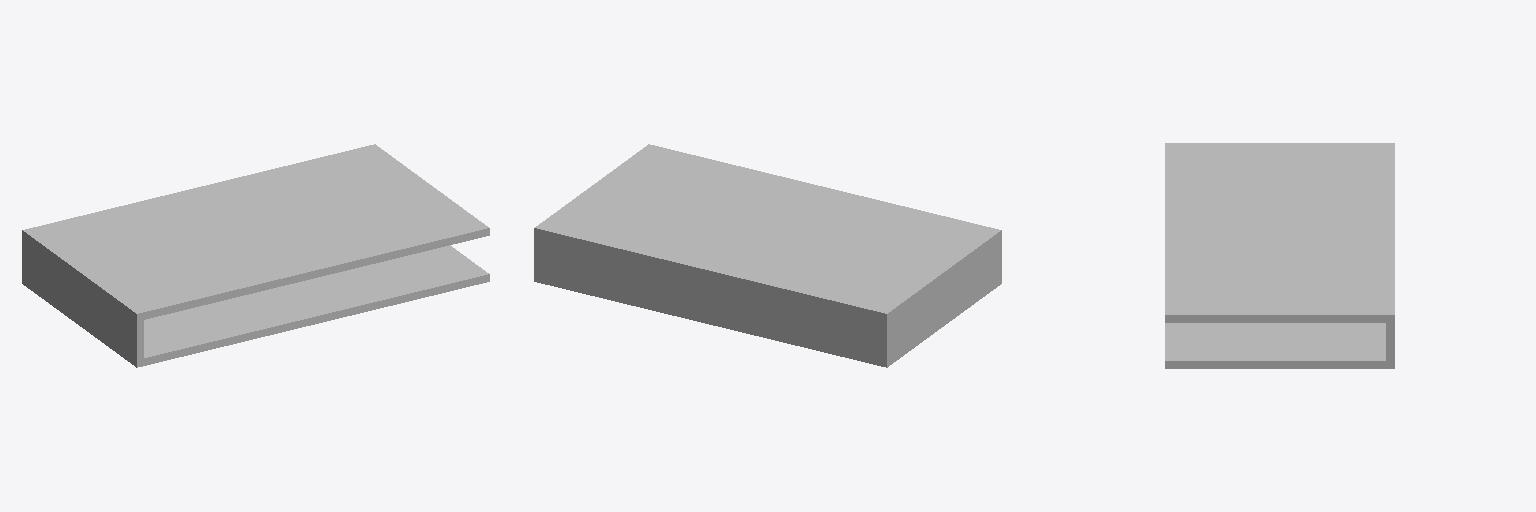
The model's file is home.obj.
3 views of the same model, side by side, from view 1: azimuth 30°, elevation 25°; view 2: azimuth 150°, elevation 25°; view 3: azimuth 270°, elevation 25° (orthographic).
Parts seen in each view (by area): view 1: Entity1(worldspawn); view 2: Entity1(worldspawn); view 3: Entity1(worldspawn).
Boxes of the visible parts, x1=… form: Entity1(worldspawn): x1=22, y1=144, x2=489, y2=367; Entity1(worldspawn): x1=534, y1=144, x2=1001, y2=367; Entity1(worldspawn): x1=1165, y1=143, x2=1394, y2=368.
Size of the model in its own units: 1536 by 224 by 864.